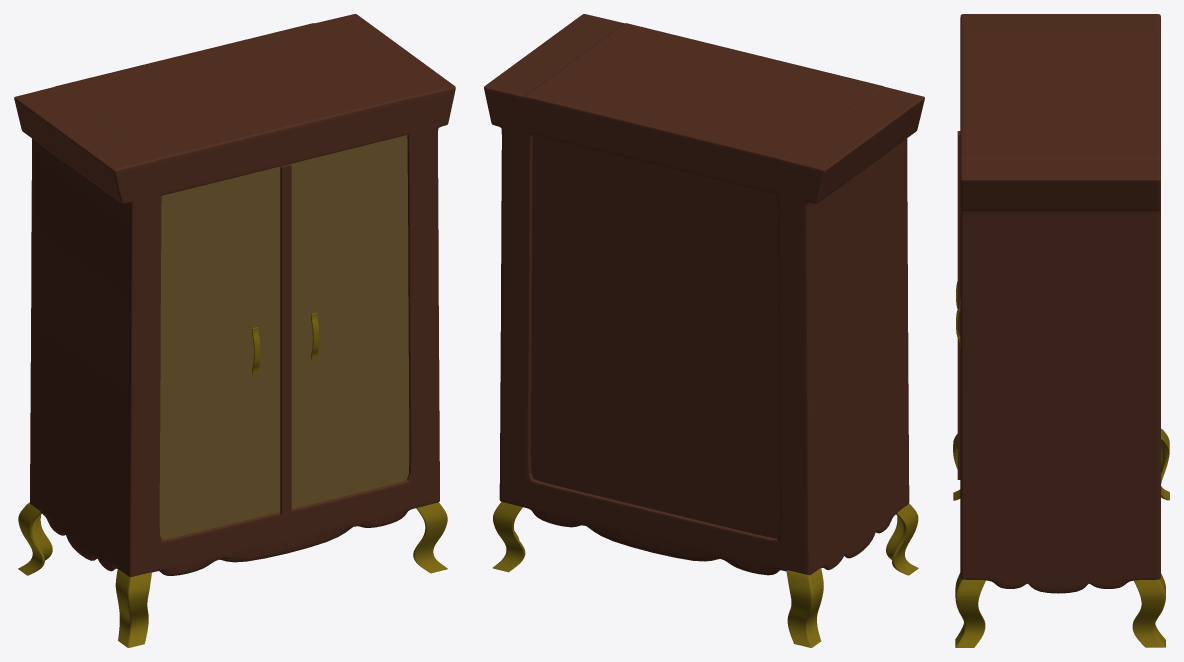
File: Flat_Wardrobe.fbx
3 views of the same model, side by side, from view 1: azimuth 30°, elevation 25°; view 2: azimuth 150°, elevation 25°; view 3: azimuth 270°, elevation 25° (orthographic).
Parts seen in each view (by area): view 1: pCube4; view 2: pCube4; view 3: pCube4.
Part boxes in pixels (<box>): pCube4: <box>14,14,455,647</box>; pCube4: <box>484,14,924,647</box>; pCube4: <box>953,14,1169,647</box>.
Size of the model in its own units: 9.41 by 12.57 by 5.2.
